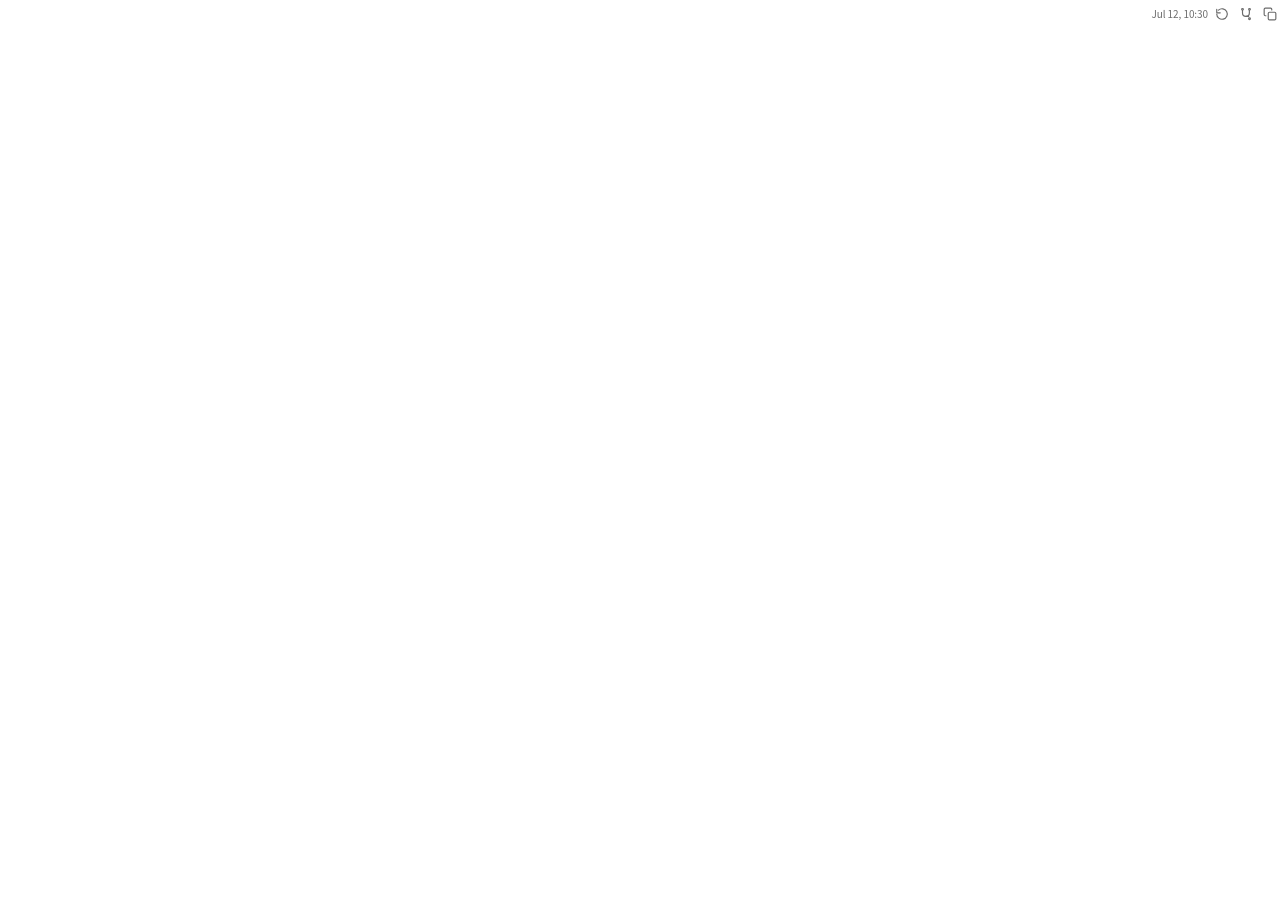
Test: MessageActions › hides all history actions while a confirmation is pending
Step 1. Click the button named "Fork" → (1246, 14), box [1236,4,1256,24]
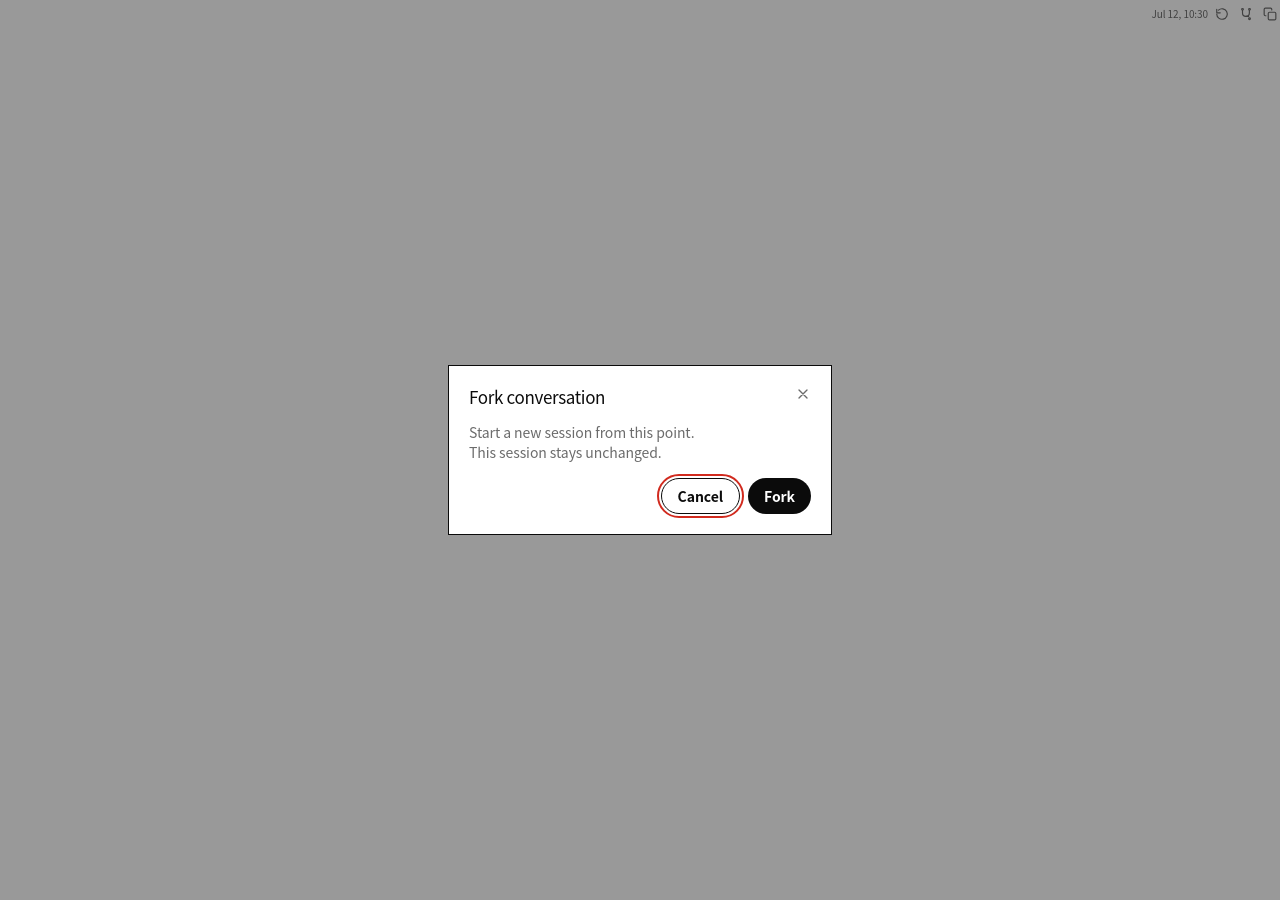
Step 2. Click the button "Fork" → (780, 496), box [748,478,811,514]
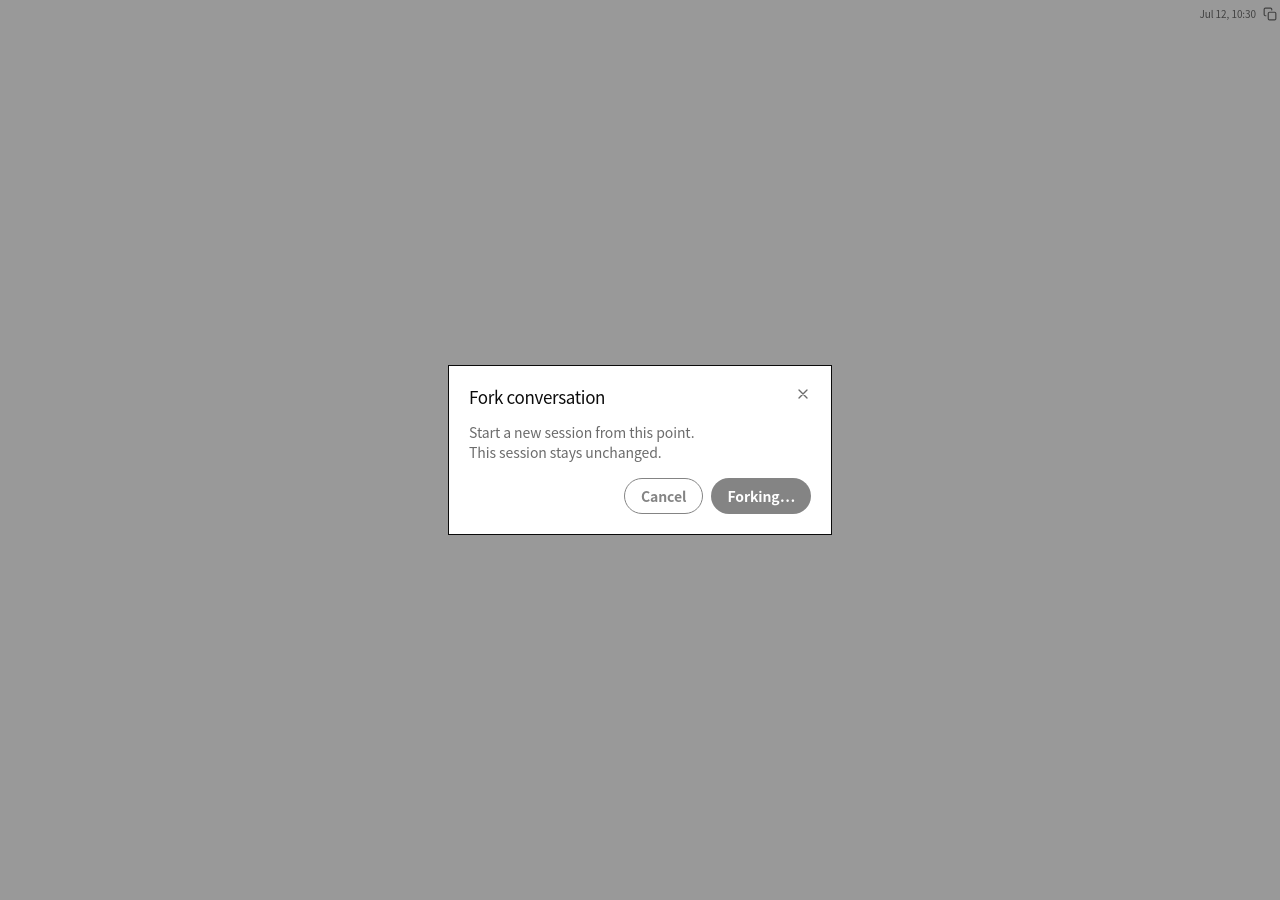
Expected: the button "Rewind" is gone
